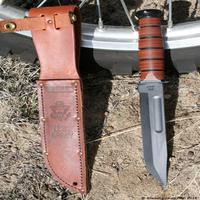knife: (123, 6, 181, 190)
